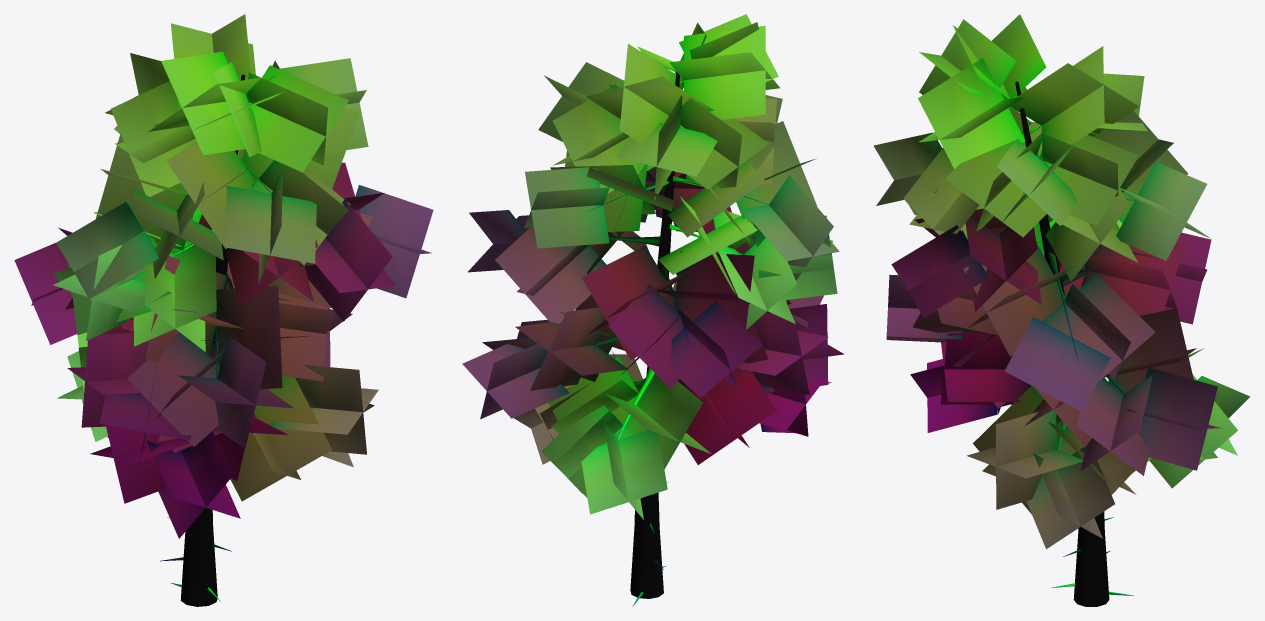
Rendered from URP_P7_Tree_2_LOD_2.fbx.
The picture shows the model from 3 angles, left to right: view 1: azimuth 30°, elevation 25°; view 2: azimuth 150°, elevation 25°; view 3: azimuth 270°, elevation 25°; orthographic projection. The views are drawn at different scales.
Visible parts, largest first — view 1: Tree_2_LOD_2; view 2: Tree_2_LOD_2; view 3: Tree_2_LOD_2.
Boxes of the visible parts, x1,y1,x2,y2 form: Tree_2_LOD_2: (14, 14, 433, 606); Tree_2_LOD_2: (462, 14, 843, 606); Tree_2_LOD_2: (874, 14, 1250, 606).
Size of the model in its own units: 286 by 413 by 254.
